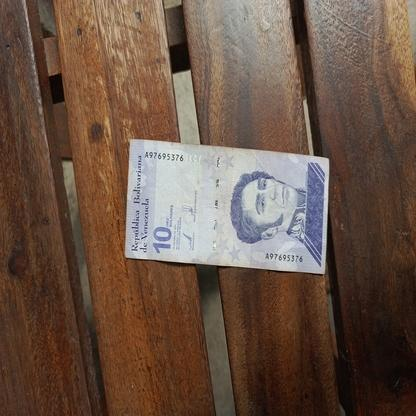ten-front-vef: (125, 137, 329, 276)
